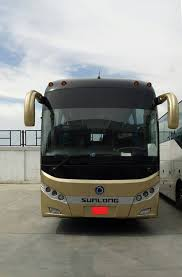bus: (40, 78, 160, 217)
